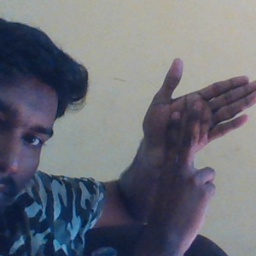N: (123, 56, 256, 191)
